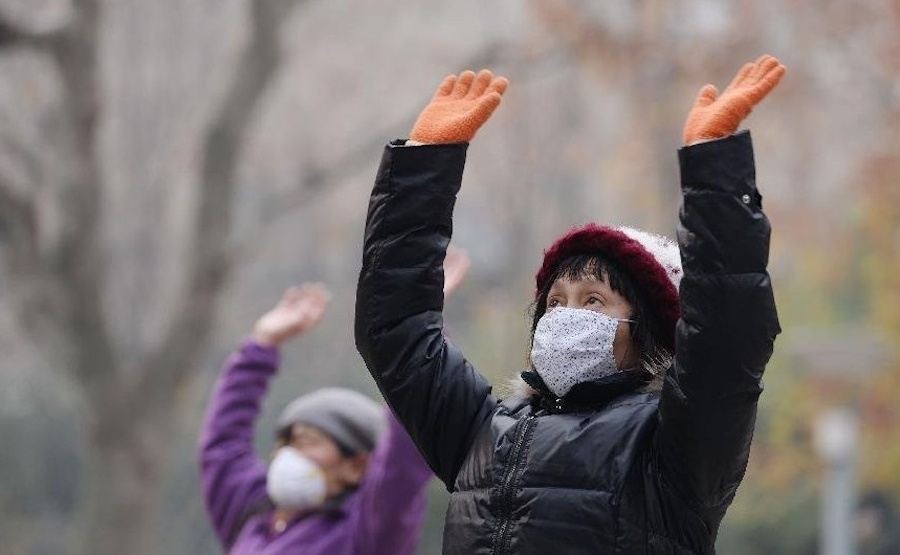Mask: (521, 278, 635, 392)
